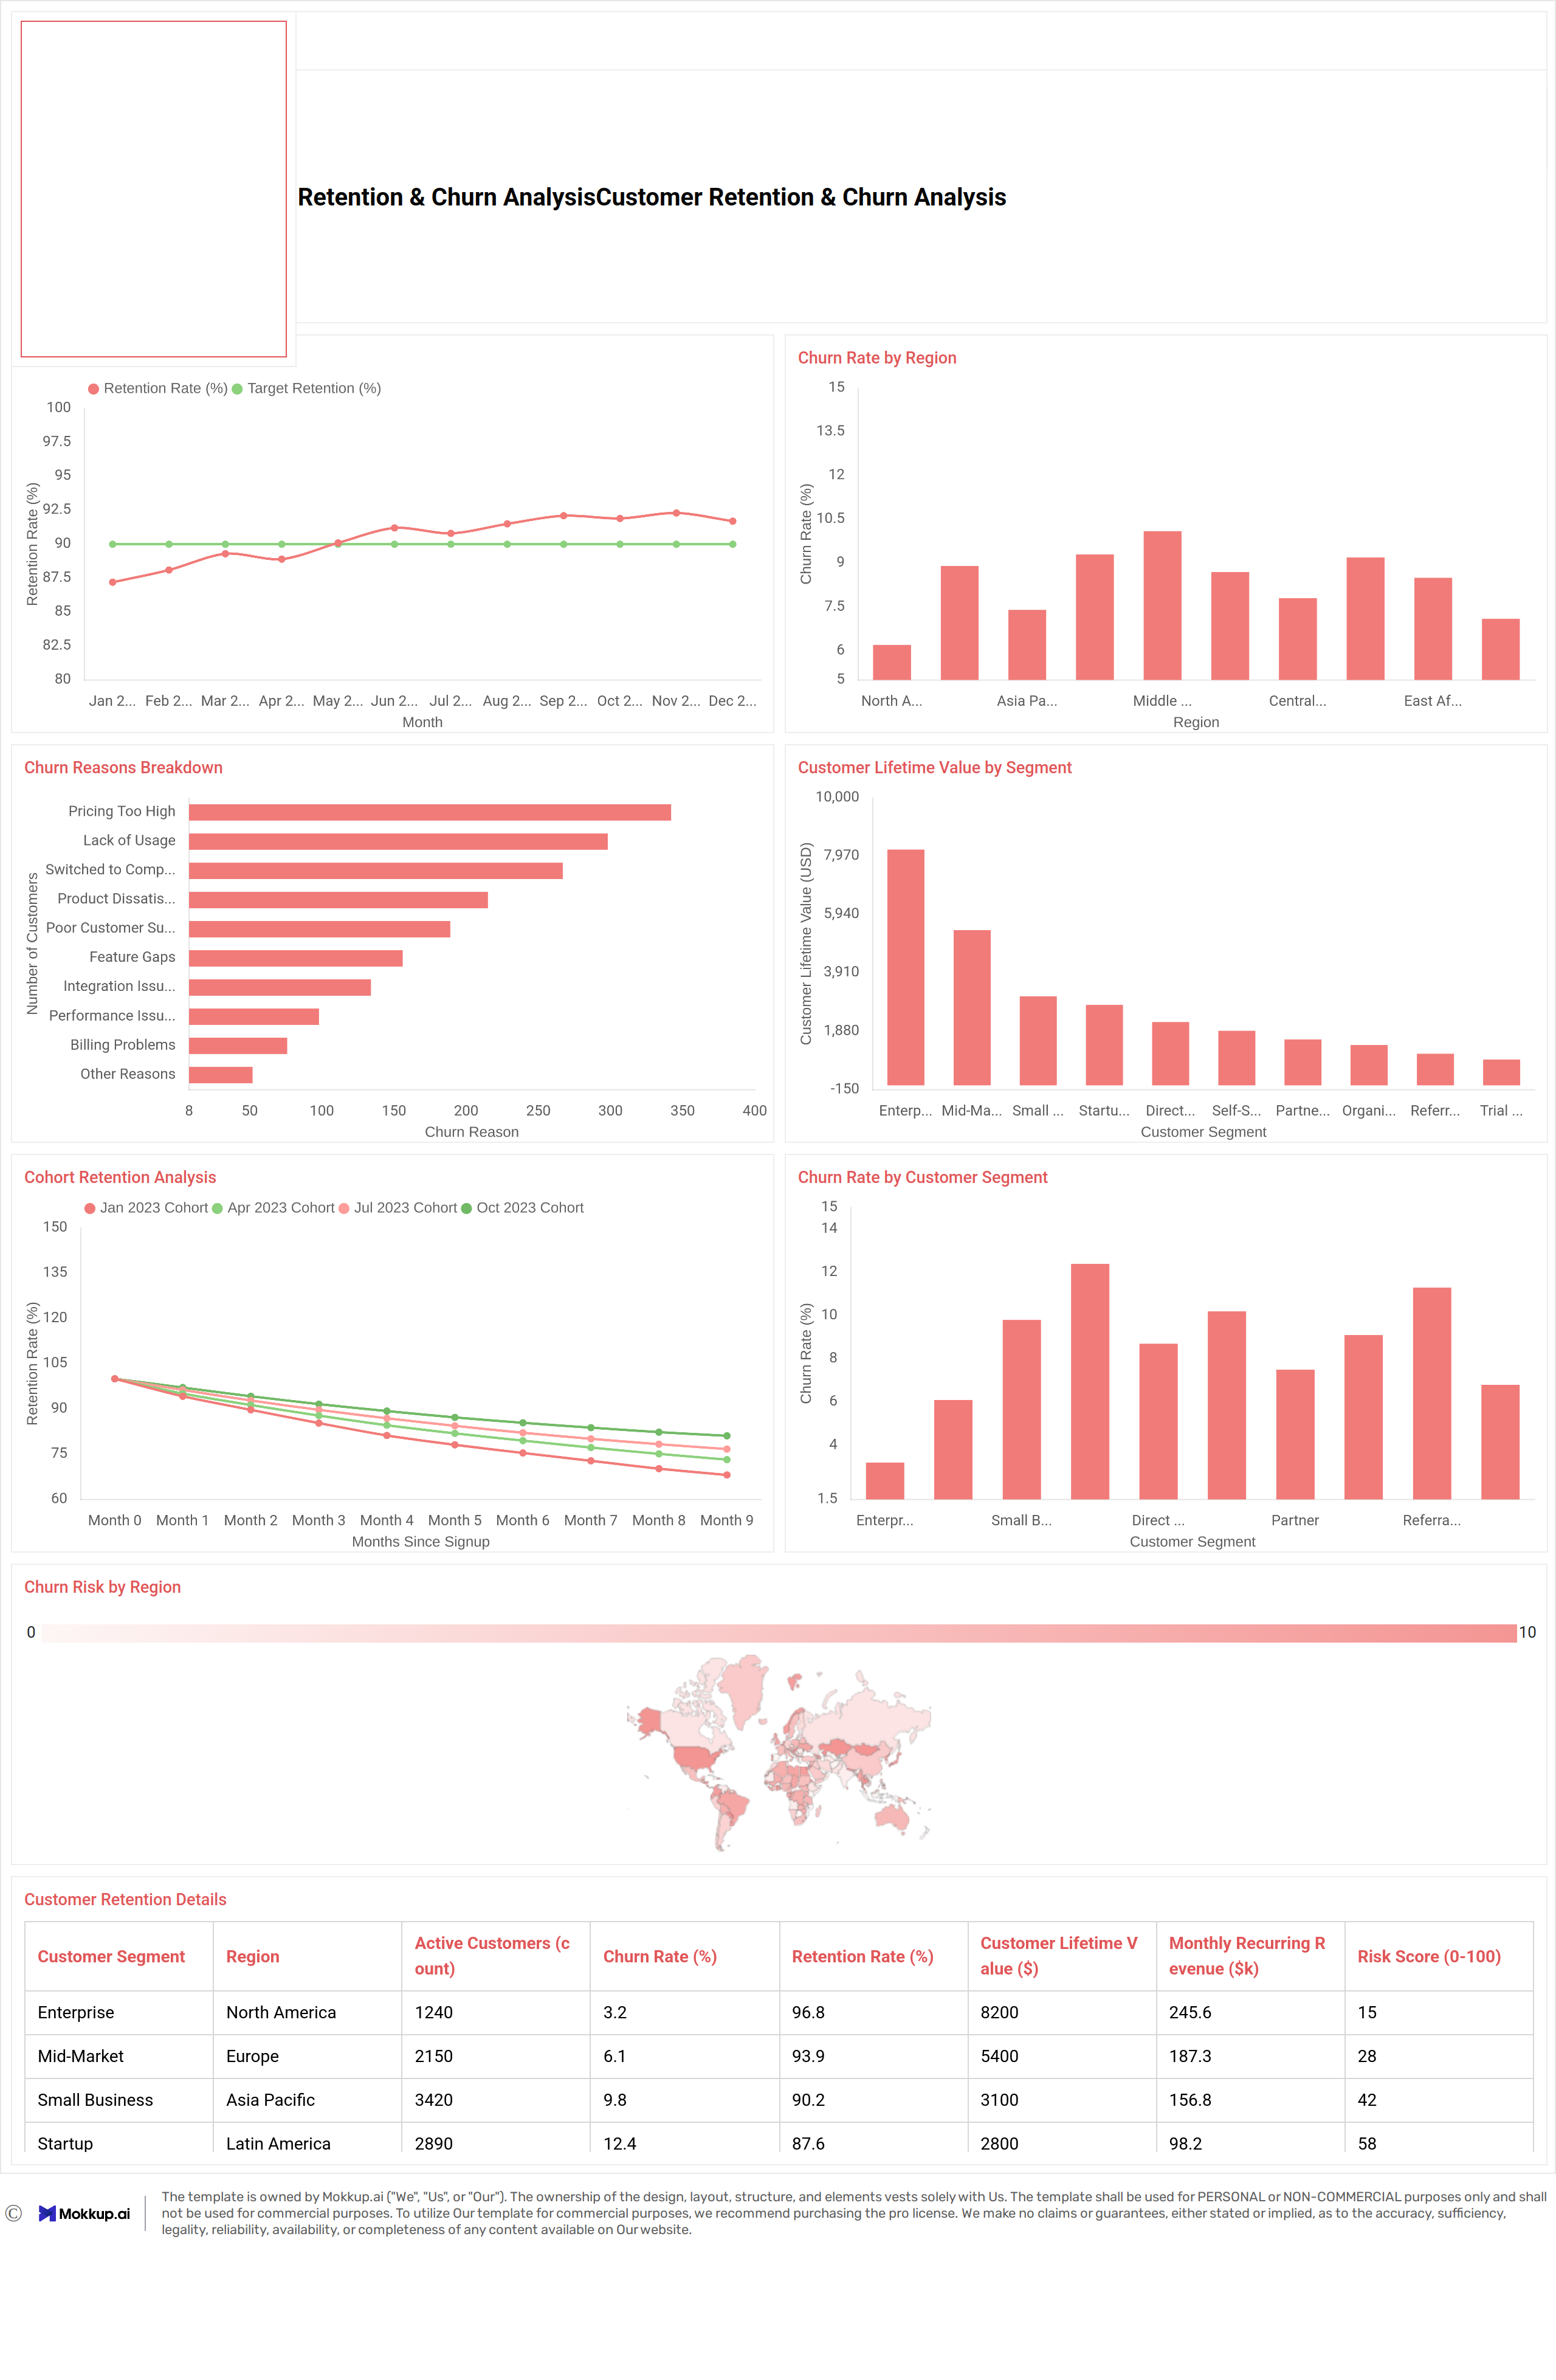

This screenshot's page, from the dashboard's own definition file:
{"tool":"powerbi","page":{"name":"Customer Retention & Churn Analysis Dashboard","canvas":[1280,1788],"ordinal":0},"visuals":[{"type":"group","id":"g1","title":"Group 1","box":[7,7,1266,55],"z":0},{"type":"shape","box":[7,7,1266,55],"z":0,"group":"g1"},{"type":"shape","box":[953.5,19,316.5,30],"z":0,"group":"g21"},{"type":"shape","box":[7,69,247.6,70],"z":0,"group":"g31"},{"type":"shape","box":[261.6,69,247.6,70],"z":0,"group":"g30"},{"type":"shape","box":[516.2,69,247.6,70],"z":0,"group":"g22"},{"type":"shape","box":[770.8,69,247.6,70],"z":0,"group":"g20"},{"type":"shape","box":[1025.4,69,247.6,70],"z":0,"group":"g19"},{"type":"shape","title":"null","box":[9,71,57.5,22],"z":0,"group":"g23"},{"type":"shape","box":[7,146,247.6,120],"z":0,"group":"g18"},{"type":"shape","box":[261.6,146,247.6,120],"z":0,"group":"g17"},{"type":"shape","box":[516.2,146,247.6,120],"z":0,"group":"g16"},{"type":"shape","box":[770.8,146,247.6,120],"z":0,"group":"g15"},{"type":"shape","box":[1025.4,146,247.6,120],"z":0,"group":"g14"},{"type":"shape","box":[7,273,626,330],"z":0,"group":"g12"},{"type":"shape","box":[640,273,313,330],"z":0,"group":"g13"},{"type":"shape","box":[960,273,313,330],"z":0,"group":"g11"},{"type":"shape","box":[7,610,629.5,250],"z":0,"group":"g10"},{"type":"shape","box":[643.5,610,629.5,250],"z":0,"group":"g9"},{"type":"shape","box":[7,867,417.3,330],"z":0,"group":"g8"},{"type":"shape","box":[431.3,867,417.3,330],"z":0,"group":"g7"},{"type":"shape","box":[855.6,867,417.4,330],"z":0,"group":"g6"},{"type":"shape","box":[7,1204,629.5,330],"z":0,"group":"g5"},{"type":"shape","box":[643.5,1204,629.5,330],"z":0,"group":"g4"},{"type":"shape","box":[7,1541,629.5,240],"z":0,"group":"g3"},{"type":"shape","box":[643.5,1541,629.5,240],"z":0,"group":"g2"},{"type":"shape","box":[8,1542,627.5,30],"z":0,"group":"g28"},{"type":"shape","box":[644.5,1542,627.5,30],"z":0,"group":"g29"},{"type":"shape","title":"null","box":[263.6,72,245.6,20],"z":10,"group":"g24"},{"type":"shape","title":"null","box":[518.2,72,245.6,20],"z":10,"group":"g25"},{"type":"shape","title":"null","box":[772.8,72,245.6,20],"z":10,"group":"g26"},{"type":"shape","title":"null","box":[1027.4,72,245.6,20],"z":10,"group":"g27"},{"type":"group","id":"g2","title":"Group 1","box":[643.5,1541,629.5,240],"z":50},{"type":"group","id":"g3","title":"Group 1","box":[7,1541,629.5,240],"z":100},{"type":"group","id":"g4","title":"Group 1","box":[643.5,1204,629.5,330],"z":150},{"type":"group","id":"g5","title":"Group 1","box":[7,1204,629.5,330],"z":200},{"type":"group","id":"g6","title":"Group 1","box":[855.6,867,417.4,330],"z":250},{"type":"group","id":"g7","title":"Group 1","box":[431.3,867,417.3,330],"z":300},{"type":"group","id":"g8","title":"Group 1","box":[7,867,417.3,330],"z":350},{"type":"group","id":"g9","title":"Group 1","box":[643.5,610,629.5,250],"z":400},{"type":"group","id":"g10","title":"Group 1","box":[7,610,629.5,250],"z":450},{"type":"group","id":"g11","title":"Group 1","box":[960,273,313,330],"z":500},{"type":"group","id":"g12","title":"Group 1","box":[7,273,626,330],"z":550},{"type":"group","id":"g13","title":"Group 1","box":[640,273,313,330],"z":600},{"type":"group","id":"g14","title":"Group 1","box":[1025.4,146,247.6,120],"z":650},{"type":"group","id":"g15","title":"Group 1","box":[770.8,146,247.6,120],"z":700},{"type":"group","id":"g16","title":"Group 1","box":[516.2,146,247.6,120],"z":750},{"type":"group","id":"g17","title":"Group 1","box":[261.6,146,247.6,120],"z":800},{"type":"group","id":"g18","title":"Group 1","box":[7,146,247.6,120],"z":850},{"type":"group","id":"g19","title":"Group 1","box":[1025.4,69,247.6,70],"z":900},{"type":"slicer","fields":{"Values":["Region25.filter"]},"box":[1027.4,92,245.6,29],"z":902,"group":"g27"},{"type":"group","id":"g20","title":"Group 1","box":[770.8,69,247.6,70],"z":950},{"type":"slicer","fields":{"Values":["Acquisition channel.column"]},"box":[772.8,92,245.6,29],"z":952,"group":"g26"},{"type":"group","id":"g21","title":"Group 1","box":[7,19,1266,30],"z":1000,"group":"g1"},{"type":"shape","box":[7,19,949.5,30],"z":1000,"group":"g21"},{"type":"group","id":"g22","title":"Group 1","box":[516.2,69,247.6,70],"z":1000},{"type":"group","id":"g23","title":"Group 1","box":[8,70,245.6,70],"z":1000,"group":"g31"},{"type":"shape","title":"null","box":[66.5,71,188.1,22],"z":1000,"group":"g23"},{"type":"group","id":"g24","title":"Group 1","box":[262.6,71,245.6,65],"z":1000,"group":"g30"},{"type":"group","id":"g25","title":"Group 1","box":[517.2,71,245.6,65],"z":1000,"group":"g22"},{"type":"group","id":"g26","title":"Group 1","box":[771.8,71,245.6,65],"z":1000,"group":"g20"},{"type":"group","id":"g27","title":"Group 1","box":[1026.4,71,245.6,65],"z":1000,"group":"g19"},{"type":"kpi","title":"Overall Churn Rate (%)","fields":{"TrendLine":["dim date.Month"],"Indicator":["dim measure.overall churn rate (%) current"],"Goal":["dim measure.overall churn rate (%) vs prev period"]},"box":[7,146,245.6,117],"z":1000,"group":"g18"},{"type":"kpi","title":"Retention Rate (%)","fields":{"TrendLine":["dim date.Month"],"Indicator":["dim measure.retention rate (%) current"],"Goal":["dim measure.retention rate (%) vs prev period"]},"box":[261.6,146,245.6,117],"z":1000,"group":"g17"},{"type":"kpi","title":"Customer Lifetime Value (USD)","fields":{"TrendLine":["dim date.Month"],"Indicator":["dim measure.customer lifetime value (usd) current"],"Goal":["dim measure.customer lifetime value (usd) vs prev period"]},"box":[516.2,146,245.6,117],"z":1000,"group":"g16"},{"type":"kpi","title":"Average Time to Churn (days)","fields":{"TrendLine":["dim date.Month"],"Indicator":["dim measure.average time to churn (days) current"],"Goal":["dim measure.average time to churn (days) vs prev period"]},"box":[770.8,146,245.6,117],"z":1000,"group":"g15"},{"type":"kpi","title":"Active Customers (count)","fields":{"TrendLine":["dim date.Month"],"Indicator":["dim measure.active customers (count) current"],"Goal":["dim measure.active customers (count) vs prev period"]},"box":[1025.4,146,245.6,117],"z":1000,"group":"g14"},{"type":"shape","box":[8,274,624,30],"z":1000,"group":"g12"},{"type":"shape","box":[641,274,311,30],"z":1000,"group":"g13"},{"type":"shape","box":[961,274,311,30],"z":1000,"group":"g11"},{"type":"shape","box":[8,611,627.5,30],"z":1000,"group":"g10"},{"type":"shape","box":[644.5,611,627.5,30],"z":1000,"group":"g9"},{"type":"shape","box":[8,868,415.3,30],"z":1000,"group":"g8"},{"type":"shape","box":[432.3,868,415.3,30],"z":1000,"group":"g7"},{"type":"shape","box":[856.6,868,415.4,30],"z":1000,"group":"g6"},{"type":"shape","box":[8,1205,627.5,30],"z":1000,"group":"g5"},{"type":"shape","box":[644.5,1205,627.5,30],"z":1000,"group":"g4"},{"type":"group","id":"g28","title":"Group 1","box":[7,1541,627.5,300],"z":1000,"group":"g3"},{"type":"group","id":"g29","title":"Group 1","box":[643.5,1541,627.5,300],"z":1000,"group":"g2"},{"type":"tableEx","fields":{"Values":["Fact.simpletable_fact_716","Fact.simpletable_fact_717","Fact.simpletable_fact_718","Fact.simpletable_fact_719","Fact.simpletable_fact_720","Fact.simpletable_fact_721","Fact.simpletable_fact_722"]},"box":[8,1572,627.5,270],"z":1000,"group":"g28"},{"type":"tableEx","fields":{"Values":["Fact.simpletable_fact_709","Fact.simpletable_fact_710","Fact.simpletable_fact_711","Fact.simpletable_fact_712","Fact.simpletable_fact_713","Fact.simpletable_fact_714","Fact.simpletable_fact_715"]},"box":[644.5,1572,627.5,270],"z":1000,"group":"g29"},{"type":"slicer","fields":{"Values":["Plan type.column"]},"box":[518.2,92,245.6,29],"z":1002,"group":"g25"},{"type":"group","id":"g30","title":"Group 1","box":[261.6,69,247.6,70],"z":1050},{"type":"slicer","fields":{"Values":["Customer segment.column"]},"box":[263.6,92,245.6,29],"z":1052,"group":"g24"},{"type":"group","id":"g31","title":"Group 1","box":[7,69,247.6,70],"z":1100},{"type":"slicer","fields":{"Values":["dim date.Date"]},"box":[9,93,245.6,45],"z":2000,"group":"g23"},{"type":"lineChart","title":"Title goes here","fields":{"Category":["Month110.combochart"],"Y":["Sum(Fact.churn_rate_____118)"]},"box":[8,304,624,297],"z":2000,"group":"g12"},{"type":"donutChart","title":"Title goes here","fields":{"Category":["Churn reasons.piechart"],"Y":["Sum(Fact.churn_reasons_fact)"]},"box":[641,304,311,297],"z":2000,"group":"g13"},{"type":"clusteredColumnChart","title":"Title goes here","fields":{"Category":["Time_to_churn distribution.frequency"],"Y":["Sum(Fact.histogram_fact_14)"]},"box":[961,304,311,297],"z":2000,"group":"g11"},{"type":"lineChart","title":"Title goes here","fields":{"Category":["Month111.linechart"],"Y":["Sum(Fact.q1_2023_cohort)","Sum(Fact.q2_2023_cohort)","Sum(Fact.q3_2023_cohort)","Sum(Fact.q4_2023_cohort)"]},"box":[8,641,627.5,217],"z":2000,"group":"g10"},{"type":"clusteredBarChart","title":"Title goes here","fields":{"Category":["Customer segment.column"],"Y":["Sum(Fact.churn_rate_____254)"]},"box":[644.5,641,627.5,217],"z":2000,"group":"g9"},{"type":"clusteredColumnChart","title":"Title goes here","fields":{"Category":["Plan type.column"],"Y":["Sum(Fact.retention_rate____)","Sum(Fact.churn_rate_____253)"]},"box":[8,898,415.3,297],"z":2000,"group":"g8"},{"type":"clusteredColumnChart","title":"Title goes here","fields":{"Category":["Acquisition channel.column"],"Y":["Sum(Fact.customer_lifetime_value___k_)"]},"box":[432.3,898,415.3,297],"z":2000,"group":"g7"},{"type":"shape","box":[856.6,898,415.4,30],"z":2000,"group":"g6"},{"type":"treemap","title":"Title goes here","fields":{"Group":["Customer risk segmentation.piechart"],"Values":["Sum(Fact.treemap_fact_18)"]},"box":[8,1235,627.5,297],"z":2000,"group":"g5"},{"type":"lineClusteredColumnComboChart","title":"Title goes here","fields":{"Category":["Month110.combochart"],"Y":["Sum(Fact.combochart_109)"],"Y2":["Sum(Fact.combochart_108)"]},"box":[644.5,1235,627.5,297],"z":2000,"group":"g4"},{"type":"pivotTable","fields":{"Rows":["Cohort retention heatmap.heatmap_cat1"],"Columns":["Cohort retention heatmap.heatmap_cat2"],"Values":["Sum(Cohort retention heatmap.heatmap_values)"]},"box":[856.6,928,415.4,267],"z":3000,"group":"g6"}]}

Visuals, with their boxes on the page's 1280x1788 design canvas (x1, y1, x2, y2). These are canvas units, not pixel positions in the 1556x2380 screenshot, which may show the page scaled, cropped or inside an application window:
"Group 1" group: (x1=7, y1=7, x2=1273, y2=62)
shape: (x1=7, y1=7, x2=1273, y2=62)
shape: (x1=954, y1=19, x2=1270, y2=49)
shape: (x1=7, y1=69, x2=255, y2=139)
shape: (x1=262, y1=69, x2=509, y2=139)
shape: (x1=516, y1=69, x2=764, y2=139)
shape: (x1=771, y1=69, x2=1018, y2=139)
shape: (x1=1025, y1=69, x2=1273, y2=139)
"null" shape: (x1=9, y1=71, x2=66, y2=93)
shape: (x1=7, y1=146, x2=255, y2=266)
shape: (x1=262, y1=146, x2=509, y2=266)
shape: (x1=516, y1=146, x2=764, y2=266)
shape: (x1=771, y1=146, x2=1018, y2=266)
shape: (x1=1025, y1=146, x2=1273, y2=266)
shape: (x1=7, y1=273, x2=633, y2=603)
shape: (x1=640, y1=273, x2=953, y2=603)
shape: (x1=960, y1=273, x2=1273, y2=603)
shape: (x1=7, y1=610, x2=636, y2=860)
shape: (x1=644, y1=610, x2=1273, y2=860)
shape: (x1=7, y1=867, x2=424, y2=1197)
shape: (x1=431, y1=867, x2=849, y2=1197)
shape: (x1=856, y1=867, x2=1273, y2=1197)
shape: (x1=7, y1=1204, x2=636, y2=1534)
shape: (x1=644, y1=1204, x2=1273, y2=1534)
shape: (x1=7, y1=1541, x2=636, y2=1781)
shape: (x1=644, y1=1541, x2=1273, y2=1781)
shape: (x1=8, y1=1542, x2=636, y2=1572)
shape: (x1=644, y1=1542, x2=1272, y2=1572)
"null" shape: (x1=264, y1=72, x2=509, y2=92)
"null" shape: (x1=518, y1=72, x2=764, y2=92)
"null" shape: (x1=773, y1=72, x2=1018, y2=92)
"null" shape: (x1=1027, y1=72, x2=1273, y2=92)
"Group 1" group: (x1=644, y1=1541, x2=1273, y2=1781)
"Group 1" group: (x1=7, y1=1541, x2=636, y2=1781)
"Group 1" group: (x1=644, y1=1204, x2=1273, y2=1534)
"Group 1" group: (x1=7, y1=1204, x2=636, y2=1534)
"Group 1" group: (x1=856, y1=867, x2=1273, y2=1197)
"Group 1" group: (x1=431, y1=867, x2=849, y2=1197)
"Group 1" group: (x1=7, y1=867, x2=424, y2=1197)
"Group 1" group: (x1=644, y1=610, x2=1273, y2=860)
"Group 1" group: (x1=7, y1=610, x2=636, y2=860)
"Group 1" group: (x1=960, y1=273, x2=1273, y2=603)
"Group 1" group: (x1=7, y1=273, x2=633, y2=603)
"Group 1" group: (x1=640, y1=273, x2=953, y2=603)
"Group 1" group: (x1=1025, y1=146, x2=1273, y2=266)
"Group 1" group: (x1=771, y1=146, x2=1018, y2=266)
"Group 1" group: (x1=516, y1=146, x2=764, y2=266)
"Group 1" group: (x1=262, y1=146, x2=509, y2=266)
"Group 1" group: (x1=7, y1=146, x2=255, y2=266)
"Group 1" group: (x1=1025, y1=69, x2=1273, y2=139)
slicer - Region25.filter: (x1=1027, y1=92, x2=1273, y2=121)
"Group 1" group: (x1=771, y1=69, x2=1018, y2=139)
slicer - Acquisition channel.column: (x1=773, y1=92, x2=1018, y2=121)
"Group 1" group: (x1=7, y1=19, x2=1273, y2=49)
shape: (x1=7, y1=19, x2=956, y2=49)
"Group 1" group: (x1=516, y1=69, x2=764, y2=139)
"Group 1" group: (x1=8, y1=70, x2=254, y2=140)
"null" shape: (x1=66, y1=71, x2=255, y2=93)
"Group 1" group: (x1=263, y1=71, x2=508, y2=136)
"Group 1" group: (x1=517, y1=71, x2=763, y2=136)
"Group 1" group: (x1=772, y1=71, x2=1017, y2=136)
"Group 1" group: (x1=1026, y1=71, x2=1272, y2=136)
"Overall Churn Rate (%)" kpi: (x1=7, y1=146, x2=253, y2=263)
"Retention Rate (%)" kpi: (x1=262, y1=146, x2=507, y2=263)
"Customer Lifetime Value (USD)" kpi: (x1=516, y1=146, x2=762, y2=263)
"Average Time to Churn (days)" kpi: (x1=771, y1=146, x2=1016, y2=263)
"Active Customers (count)" kpi: (x1=1025, y1=146, x2=1271, y2=263)
shape: (x1=8, y1=274, x2=632, y2=304)
shape: (x1=641, y1=274, x2=952, y2=304)
shape: (x1=961, y1=274, x2=1272, y2=304)
shape: (x1=8, y1=611, x2=636, y2=641)
shape: (x1=644, y1=611, x2=1272, y2=641)
shape: (x1=8, y1=868, x2=423, y2=898)
shape: (x1=432, y1=868, x2=848, y2=898)
shape: (x1=857, y1=868, x2=1272, y2=898)
shape: (x1=8, y1=1205, x2=636, y2=1235)
shape: (x1=644, y1=1205, x2=1272, y2=1235)
"Group 1" group: (x1=7, y1=1541, x2=634, y2=1841)
"Group 1" group: (x1=644, y1=1541, x2=1271, y2=1841)
tableEx - Fact.simpletable_fact_716 x Fact.simpletable_fact_717: (x1=8, y1=1572, x2=636, y2=1842)
tableEx - Fact.simpletable_fact_709 x Fact.simpletable_fact_710: (x1=644, y1=1572, x2=1272, y2=1842)
slicer - Plan type.column: (x1=518, y1=92, x2=764, y2=121)
"Group 1" group: (x1=262, y1=69, x2=509, y2=139)
slicer - Customer segment.column: (x1=264, y1=92, x2=509, y2=121)
"Group 1" group: (x1=7, y1=69, x2=255, y2=139)
slicer - dim date.Date: (x1=9, y1=93, x2=255, y2=138)
"Title goes here" lineChart: (x1=8, y1=304, x2=632, y2=601)
"Title goes here" donutChart: (x1=641, y1=304, x2=952, y2=601)
"Title goes here" clusteredColumnChart: (x1=961, y1=304, x2=1272, y2=601)
"Title goes here" lineChart: (x1=8, y1=641, x2=636, y2=858)
"Title goes here" clusteredBarChart: (x1=644, y1=641, x2=1272, y2=858)
"Title goes here" clusteredColumnChart: (x1=8, y1=898, x2=423, y2=1195)
"Title goes here" clusteredColumnChart: (x1=432, y1=898, x2=848, y2=1195)
shape: (x1=857, y1=898, x2=1272, y2=928)
"Title goes here" treemap: (x1=8, y1=1235, x2=636, y2=1532)
"Title goes here" lineClusteredColumnComboChart: (x1=644, y1=1235, x2=1272, y2=1532)
pivotTable - Cohort retention heatmap.heatmap_cat1 x Cohort retention heatmap.heatmap_cat2: (x1=857, y1=928, x2=1272, y2=1195)
